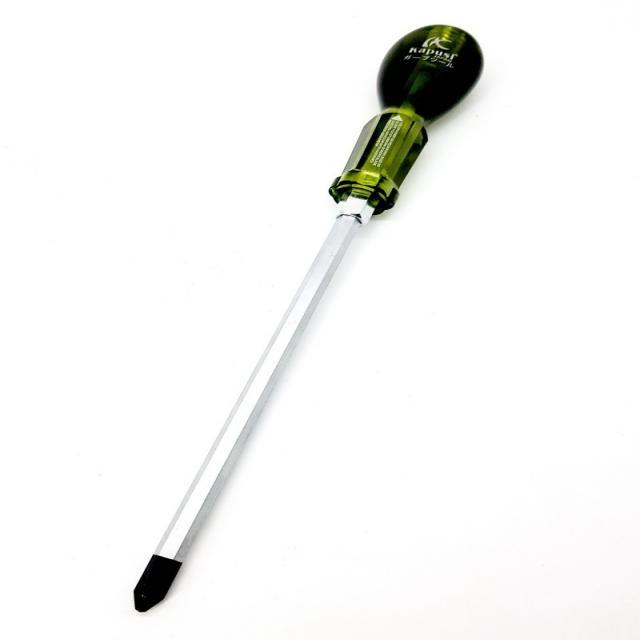screwdriver: (126, 22, 492, 617)
